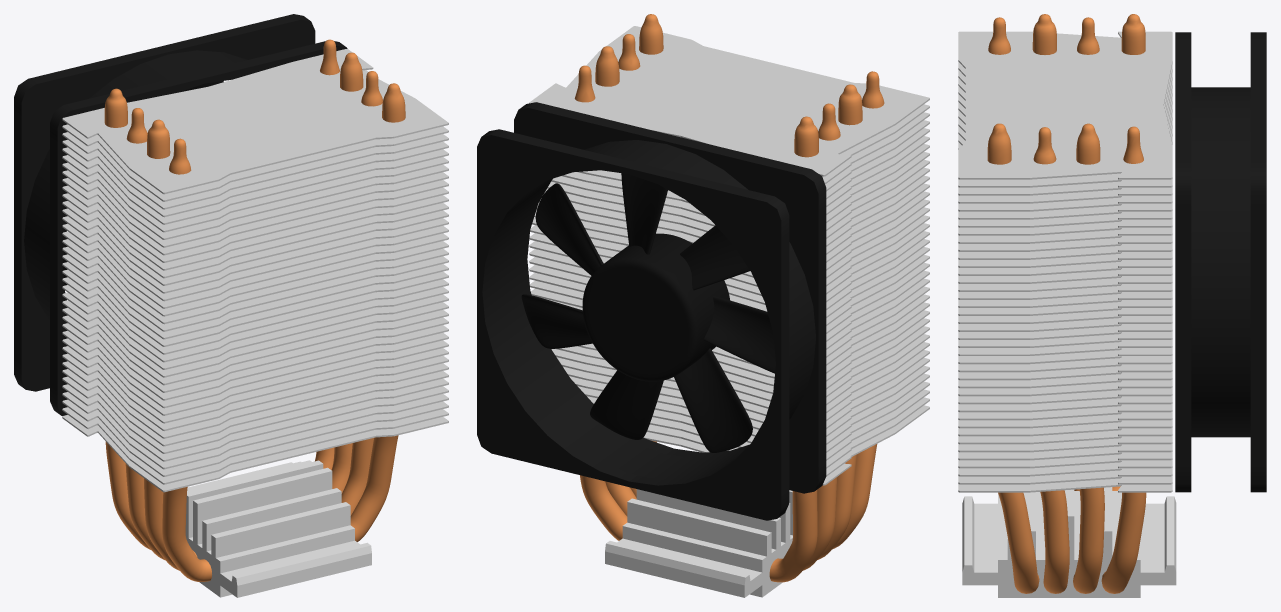
File: cpu_cooler1.glb
The picture shows the model from 3 angles, left to right: view 1: azimuth 30°, elevation 25°; view 2: azimuth 150°, elevation 25°; view 3: azimuth 270°, elevation 25°; orthographic projection. The views are drawn at different scales.
Parts seen in each view (by area): view 1: Object_4, Object_6, Object_5, Object_3; view 2: Object_4, Object_6, Object_2, Object_3, Object_5; view 3: Object_4, Object_6, Object_3, Object_5.
Boxes of the visible parts, x1,y1,x2,y2 form: Object_4: (62,49,448,492); Object_6: (14,14,347,416); Object_5: (185,460,371,597); Object_3: (104,39,405,581); Object_4: (529,26,929,485); Object_6: (477,102,826,520); Object_2: (521,173,775,452); Object_3: (574,14,884,582); Object_5: (605,489,792,597); Object_4: (958,31,1172,492); Object_6: (1175,32,1266,492); Object_3: (987,14,1146,593); Object_5: (962,487,1176,597).
Size of the model in its own units: 2.93 by 4.48 by 2.53.
